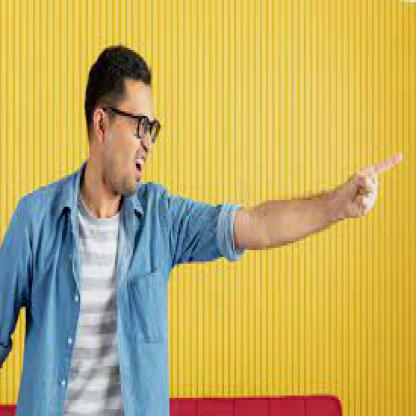Left: (337, 145, 412, 224)
